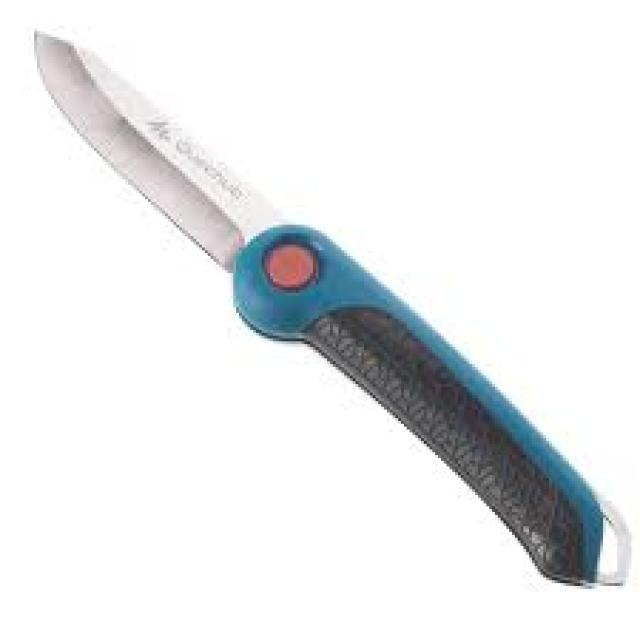knife: (30, 24, 639, 599)
